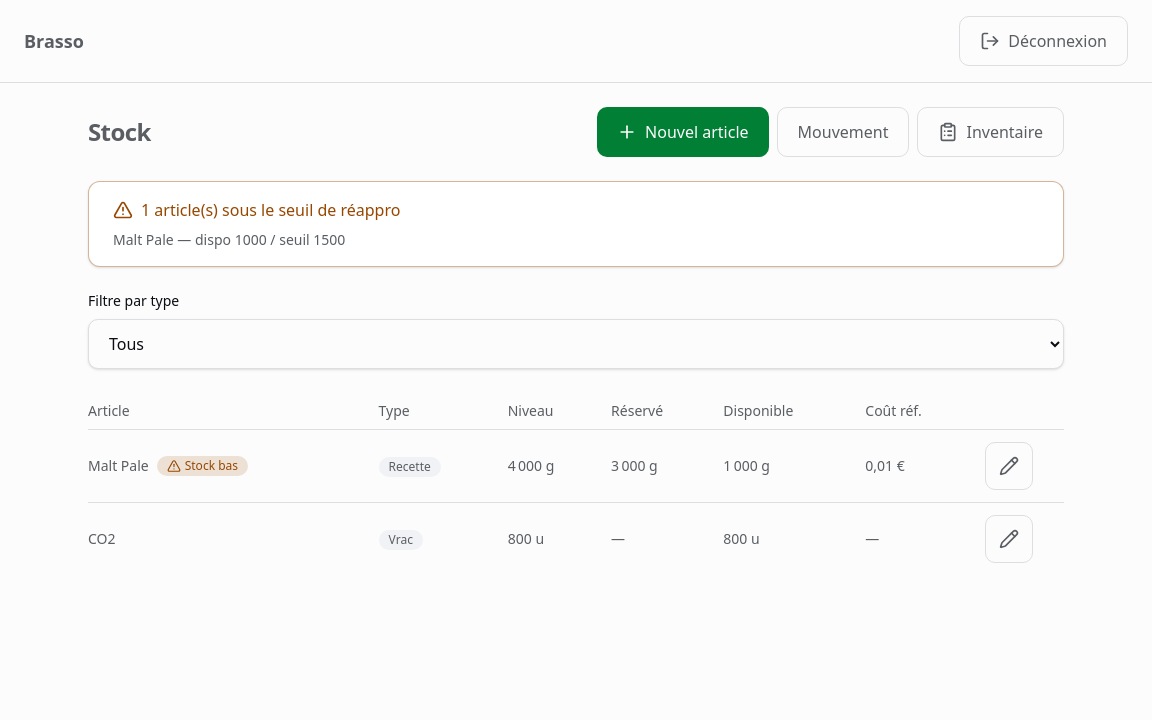
Test case: écran stock — écriture (M5-07) › saisit un mouvement : POST correct et liste rafraîchie
This screenshot has width=1152, height=720.
Click the button "Mouvement".
click(843, 132)  # box top-left (777, 107), bottom-right (910, 157)
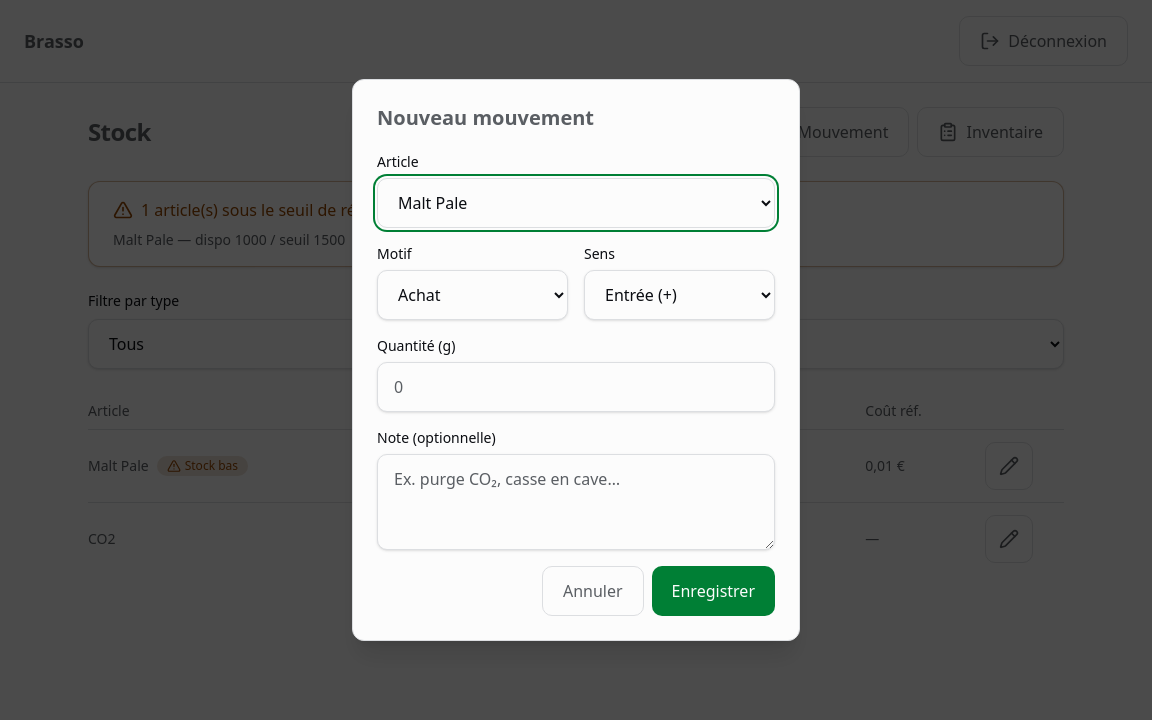
Select "Malt Pale" in the dropdown labelled "Article" at (576, 203), box top-left (377, 178), bottom-right (775, 228)
Type "500" into the field labelled "Quantité (g)".
click(576, 387); type("500")  # box top-left (377, 362), bottom-right (775, 412)
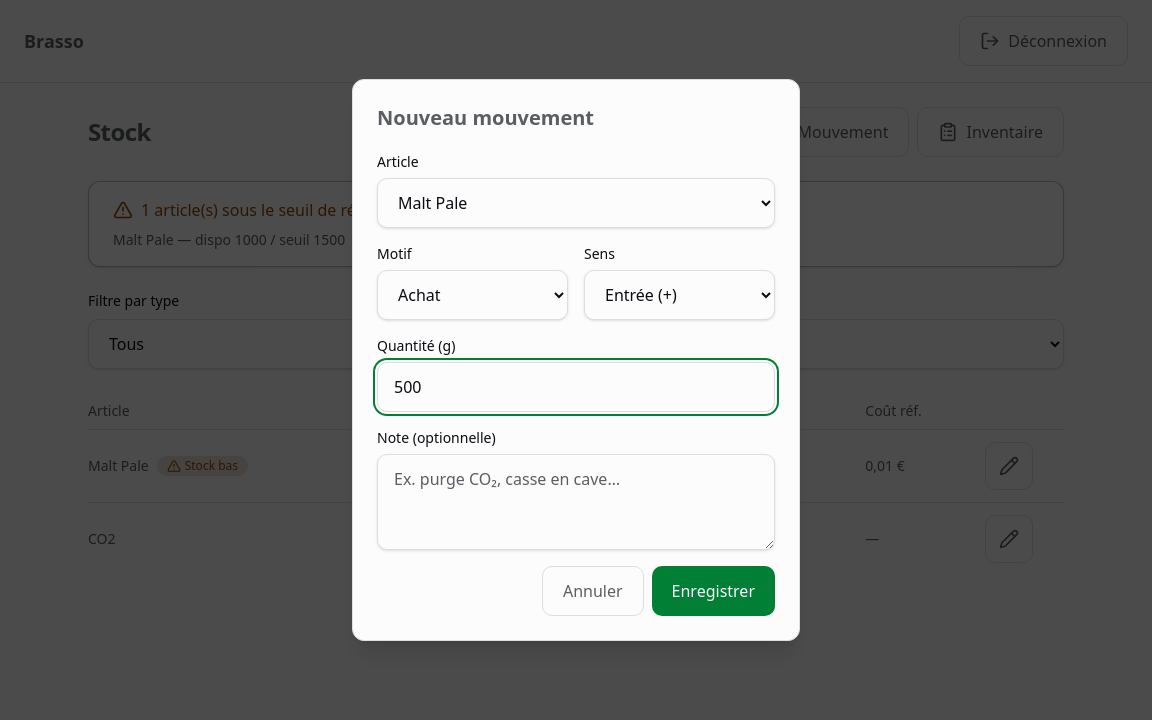
Click the button "Enregistrer".
click(713, 591)  # box top-left (652, 566), bottom-right (775, 616)
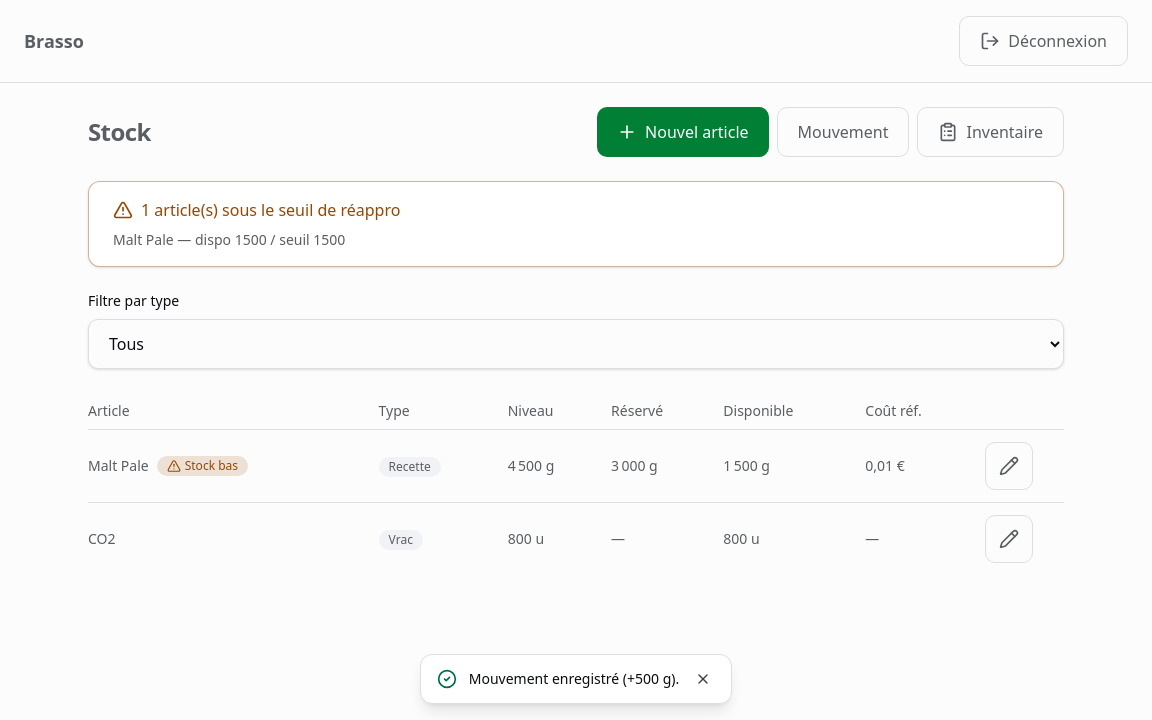
Result: the message shows "Mouvement enregistré" at top-left (469, 669), bottom-right (679, 688)
